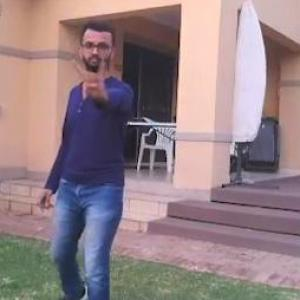takeoff-hand: (68, 55, 114, 108)
